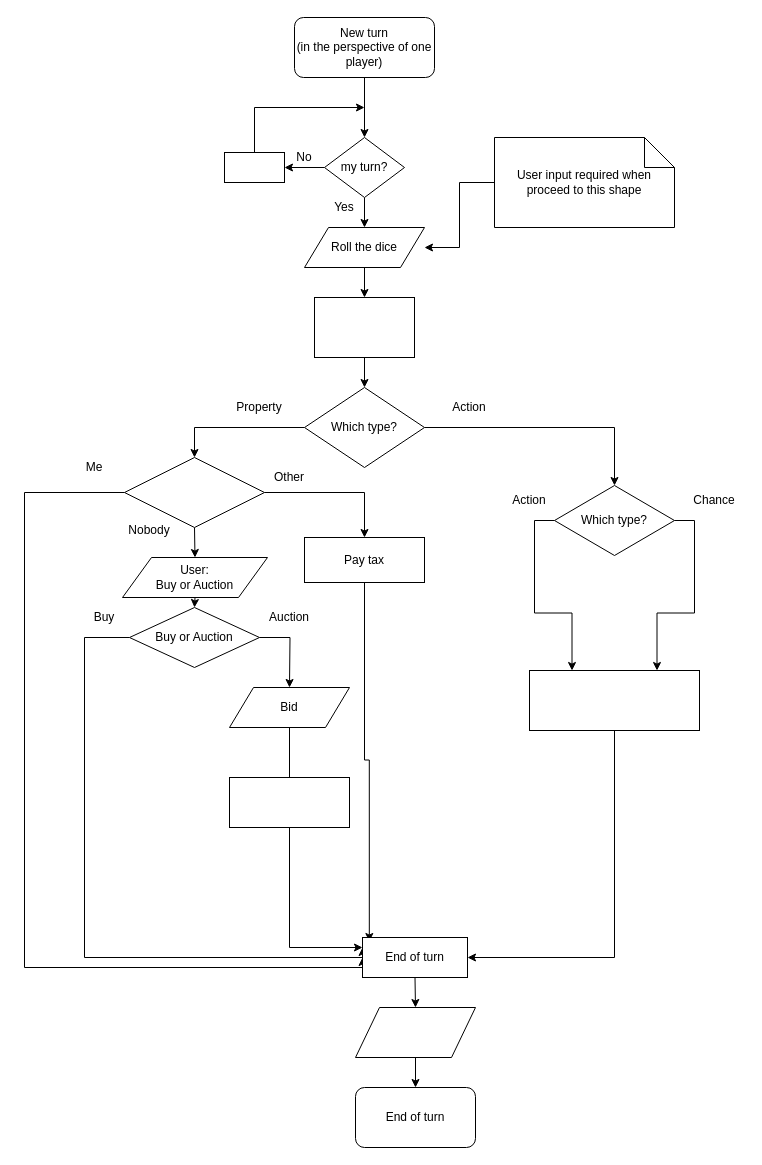
Image size: 762x1165. Some labels were removed from this diagram. Here are the shapes that lost their labels. From the top down, the centre of each, then its label:
At point 254,167: "Wait".
At point 364,327: "Token lands on a new cell".
At point 194,492: "Who owns this property".
At point 614,700: "Get results from server".
At point 289,802: "Bidding process being left out".
At point 415,1032: "Click End Turn Button".
